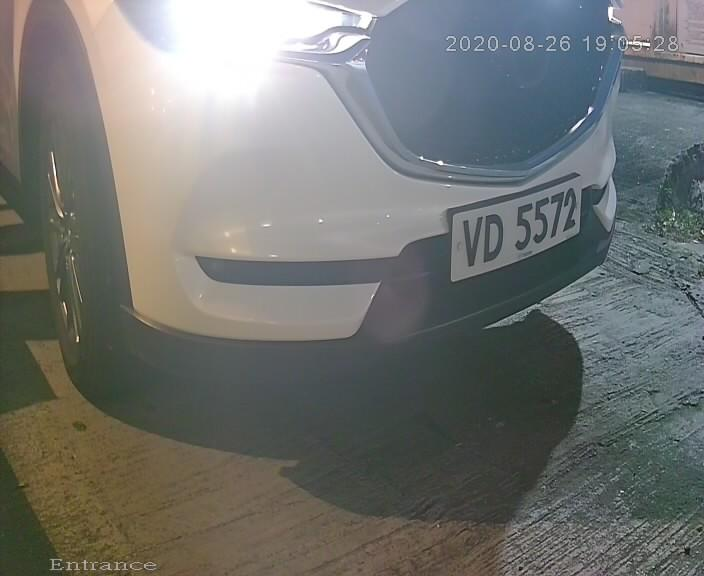License Plate: (428, 158, 597, 300)
